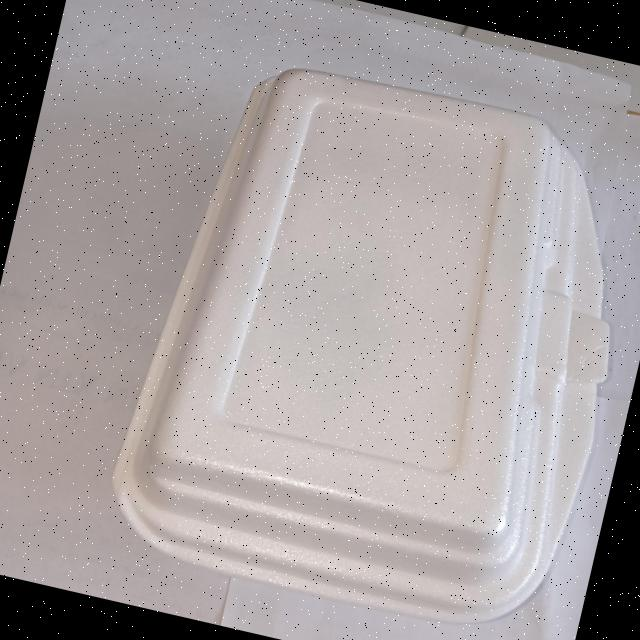styrofoam: (94, 37, 640, 640)
